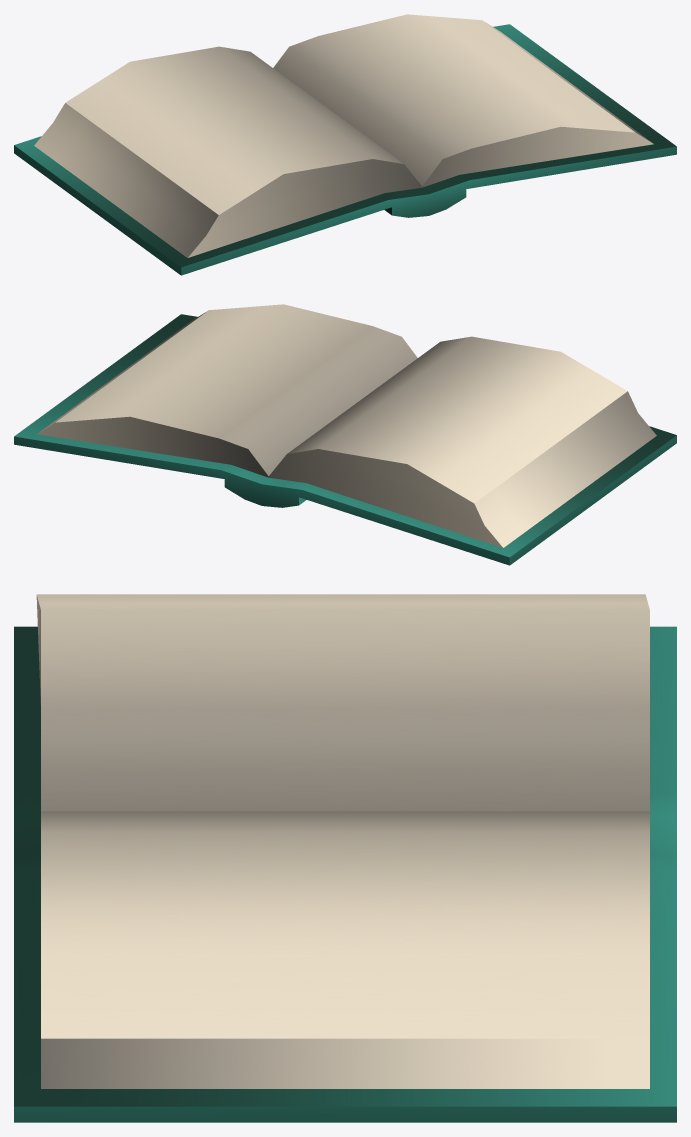
Rendered from Kirja auki.fbx.
The picture shows the model from 3 angles, top to bottom: view 1: azimuth 30°, elevation 25°; view 2: azimuth 150°, elevation 25°; view 3: azimuth 270°, elevation 25°; orthographic projection. The views are drawn at different scales.
Visible parts, largest first — view 1: pCube1; view 2: pCube1; view 3: pCube1.
Part boxes in pixels (x1,y1,x2,y2): pCube1: [14, 14, 676, 275]; pCube1: [14, 304, 676, 565]; pCube1: [14, 594, 676, 1122].
Size of the model in its own units: 7.04 by 0.9588 by 4.11.
